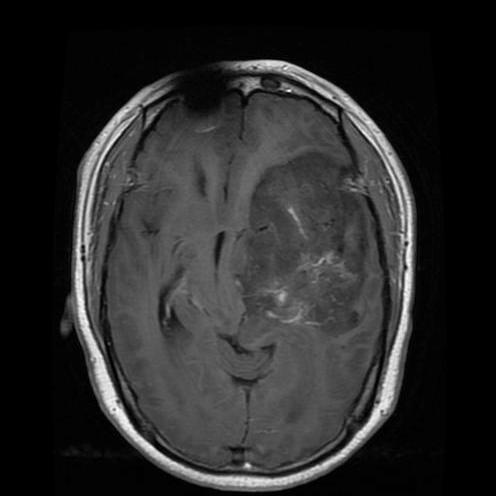Tumour-Glioma: (254, 194, 371, 322)
